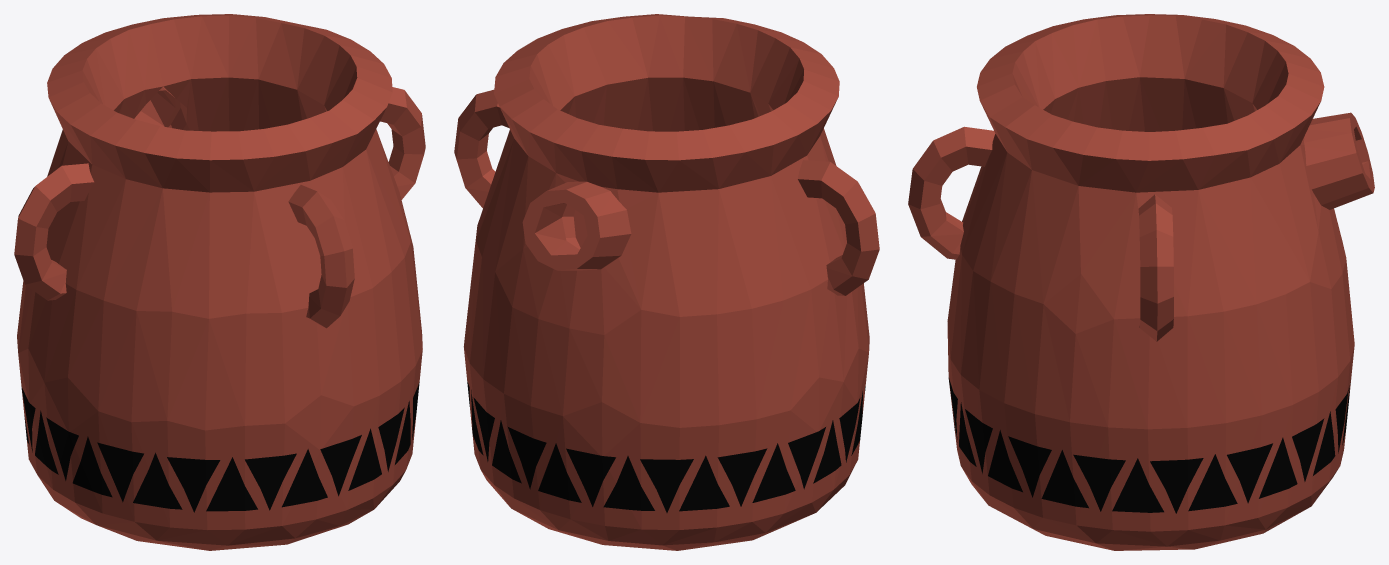
The model's file is Pottery 20_3.fbx.
3 renders of one model, left to right at view 1: azimuth 30°, elevation 25°; view 2: azimuth 150°, elevation 25°; view 3: azimuth 270°, elevation 25°, orthographic.
Visible parts, largest first — view 1: Pottery 20_3; view 2: Pottery 20_3; view 3: Pottery 20_3.
Boxes of the visible parts, left/top/right/bottom form: Pottery 20_3: left=14, top=14, right=425, bottom=550; Pottery 20_3: left=454, top=14, right=879, bottom=550; Pottery 20_3: left=908, top=14, right=1374, bottom=550.
Size of the model in its own units: 62.86 by 59.43 by 60.51.
